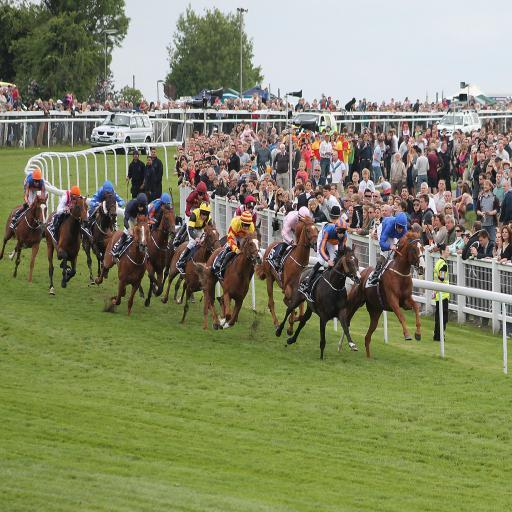horse: (0, 188, 426, 361)
